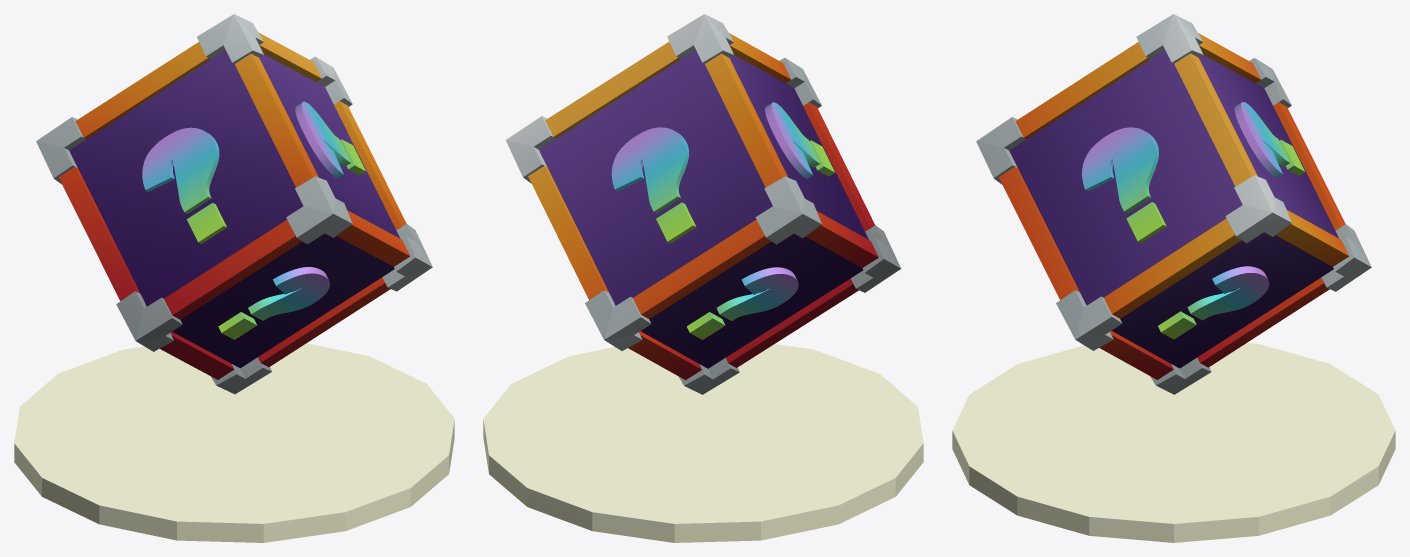
Rendered from bonus.fbx.
3 views of the same model, side by side, from view 1: azimuth 30°, elevation 25°; view 2: azimuth 150°, elevation 25°; view 3: azimuth 270°, elevation 25° (orthographic).
Parts seen in each view (by area): view 1: Cube, bonus; view 2: Cube, bonus; view 3: Cube, bonus.
Boxes of the visible parts, box(x1,y1,x2,y2) form: Cube: box(36, 14, 432, 394); bonus: box(14, 343, 454, 542); Cube: box(505, 14, 901, 394); bonus: box(483, 344, 923, 542); Cube: box(976, 14, 1371, 394); bonus: box(952, 343, 1395, 542).
Bounding box in the file's own units: 200 × 217 × 200.
